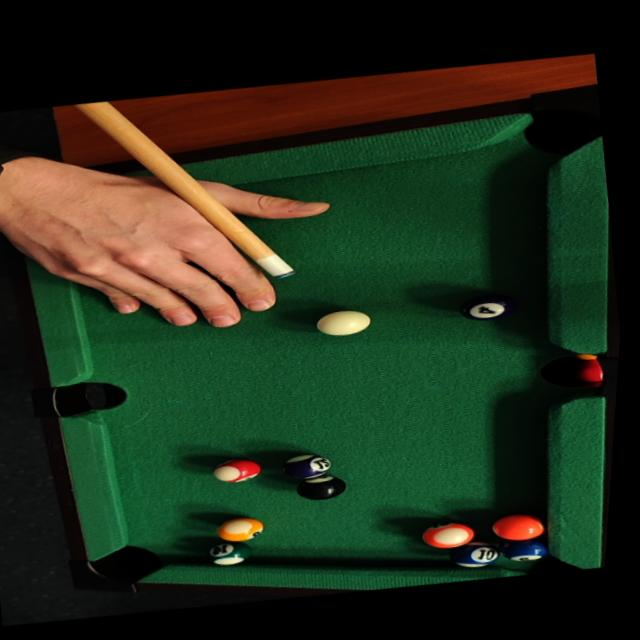cue ball: (310, 303, 375, 341)
other: (486, 504, 554, 548), (439, 531, 507, 574), (414, 513, 480, 554), (492, 528, 557, 568), (275, 445, 338, 484), (206, 450, 266, 489), (294, 468, 352, 506), (212, 510, 270, 547), (455, 288, 515, 323), (201, 535, 254, 569)
